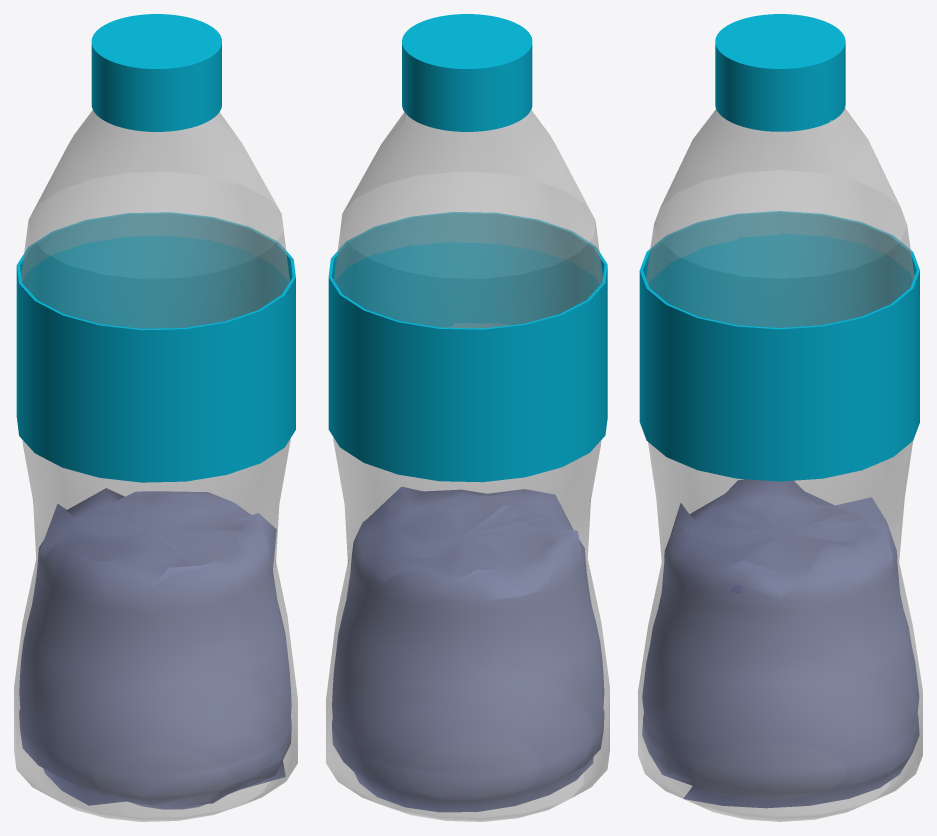
The model's file is Water Bottle.fbx.
3 renders of one model, left to right at view 1: azimuth 30°, elevation 25°; view 2: azimuth 150°, elevation 25°; view 3: azimuth 270°, elevation 25°, orthographic.
Parts seen in each view (by area): view 1: pCylinder1, pSphere1, pPipe1, pCylinder2; view 2: pCylinder1, pSphere1, pPipe1, pCylinder2; view 3: pCylinder1, pSphere1, pPipe1, pCylinder2.
Boxes of the visible parts, x1,y1,x2,y2 form: pCylinder1: [14, 110, 297, 821]; pSphere1: [19, 488, 291, 809]; pPipe1: [16, 212, 295, 482]; pCylinder2: [91, 14, 221, 131]; pCylinder1: [326, 110, 609, 821]; pSphere1: [332, 487, 604, 812]; pPipe1: [328, 212, 607, 482]; pCylinder2: [402, 14, 532, 131]; pCylinder1: [638, 108, 922, 821]; pSphere1: [642, 479, 919, 808]; pPipe1: [639, 211, 919, 481]; pCylinder2: [715, 14, 845, 131].
Size of the model in its own units: 0.0894 by 0.2555 by 0.0894.
